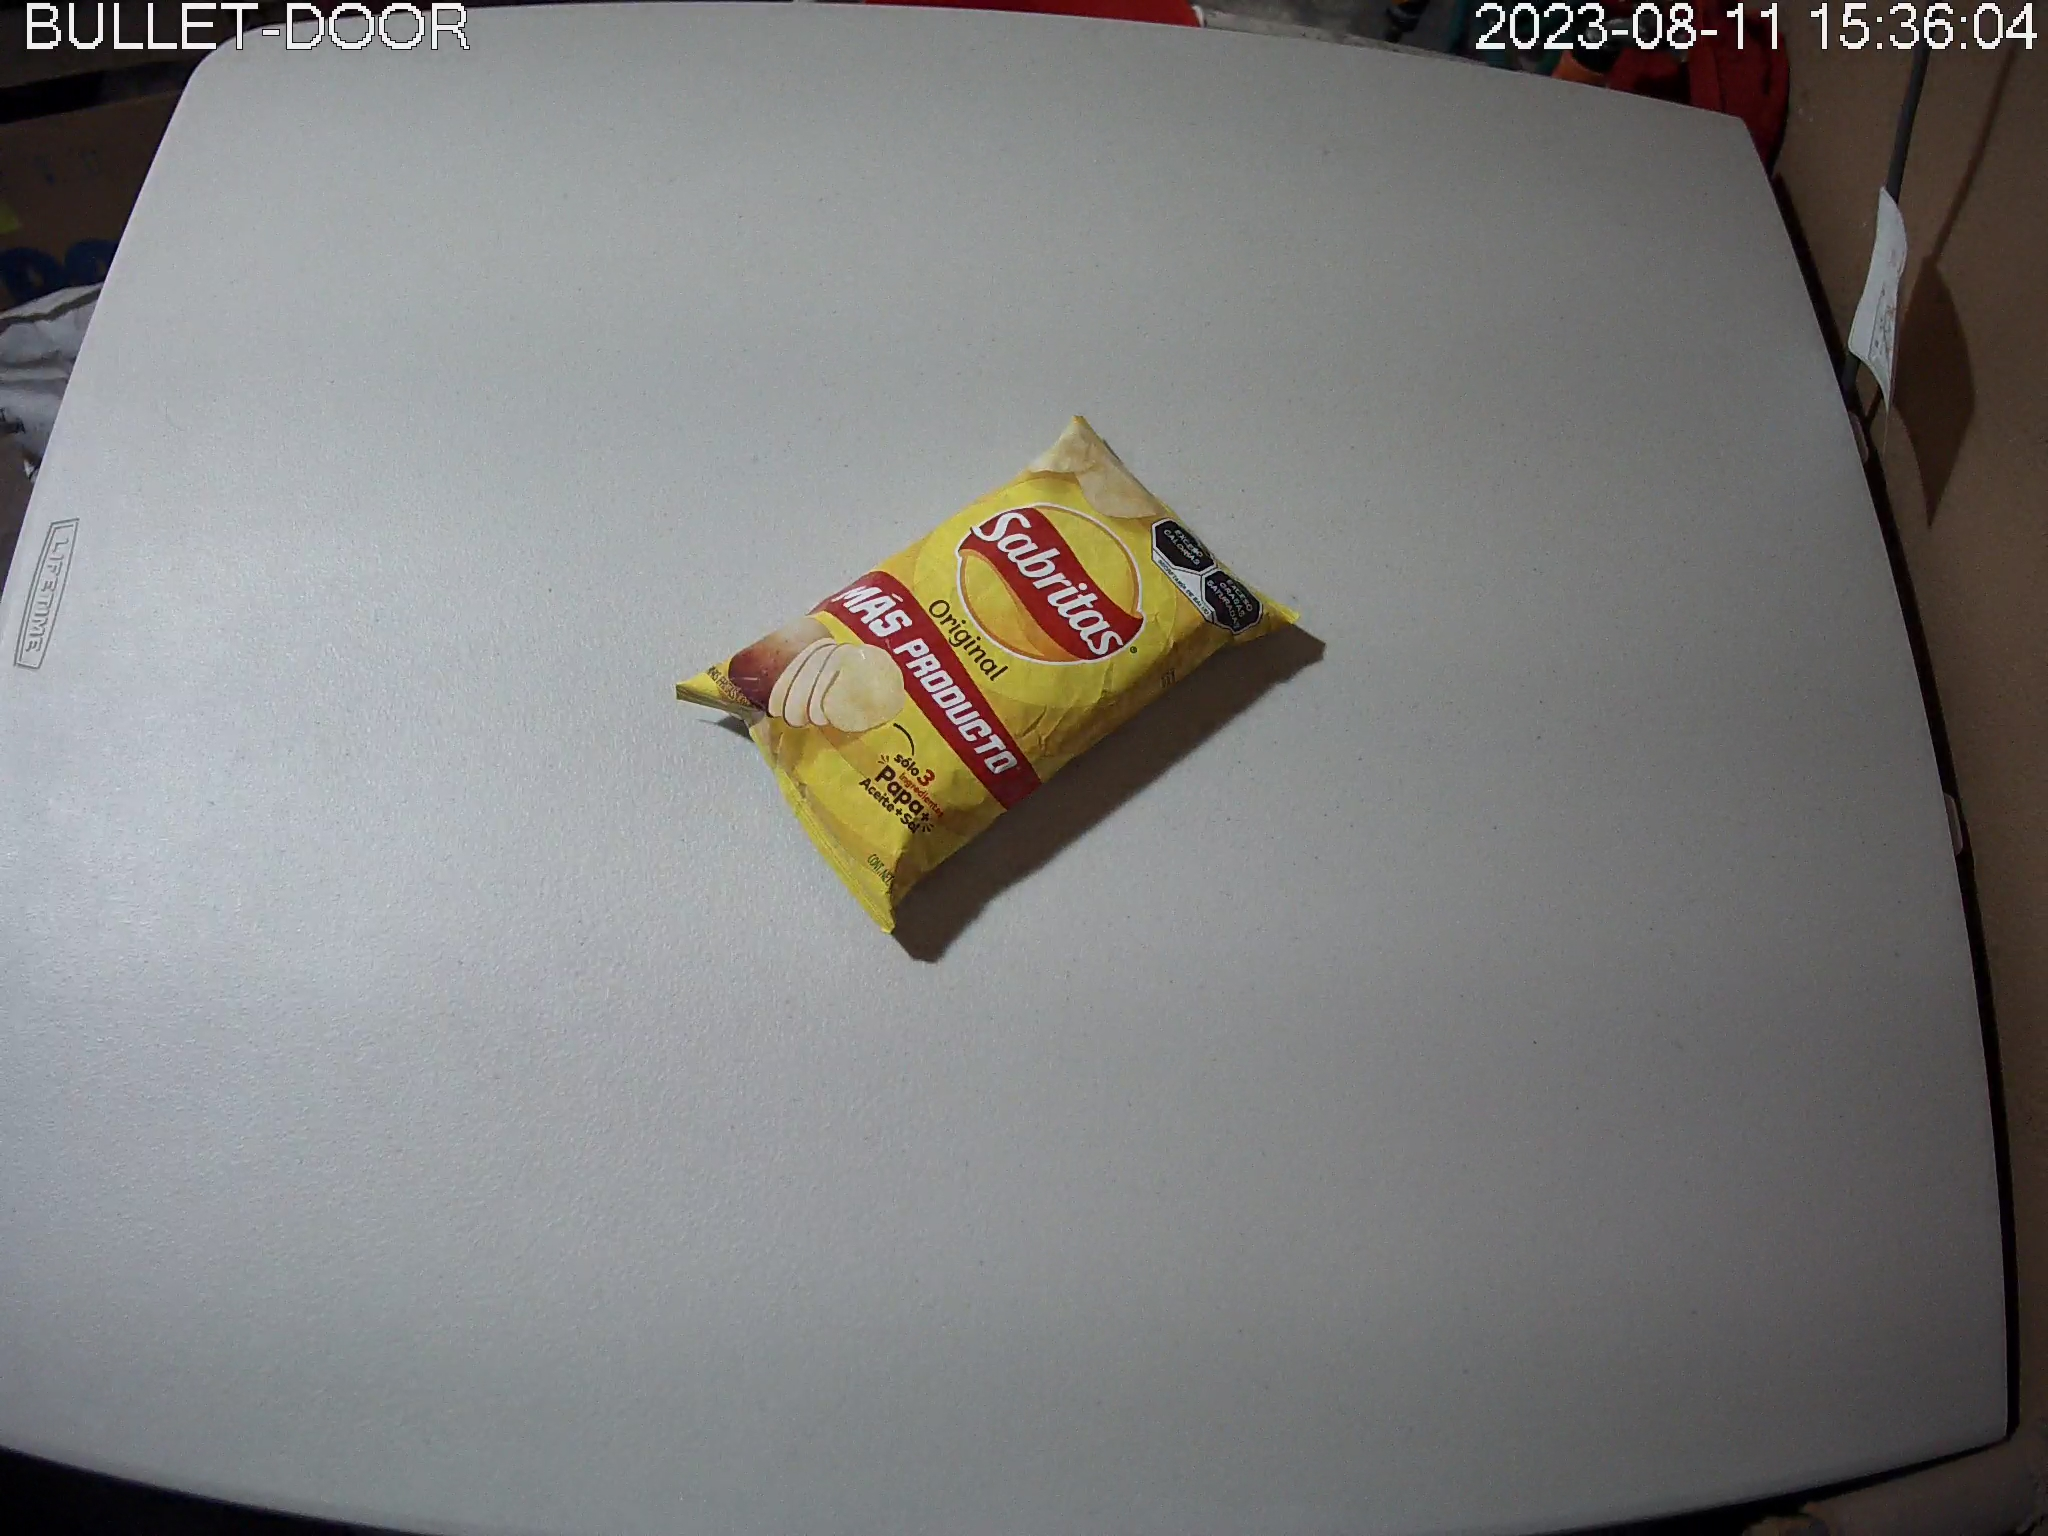Sabritas_45_F: (672, 410, 1300, 939)
